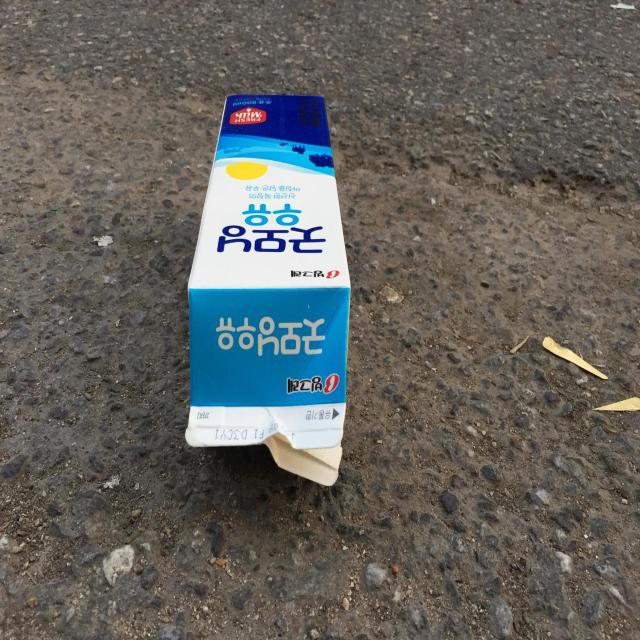paperpack: (185, 94, 351, 486)
